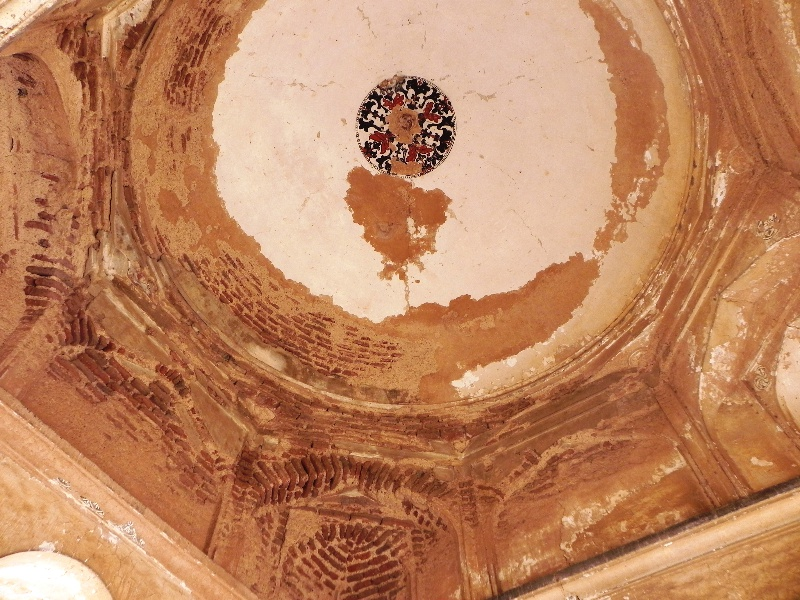Exposed Bricks: (228, 427, 441, 596), (197, 253, 397, 373), (58, 328, 186, 470), (158, 8, 229, 112)
